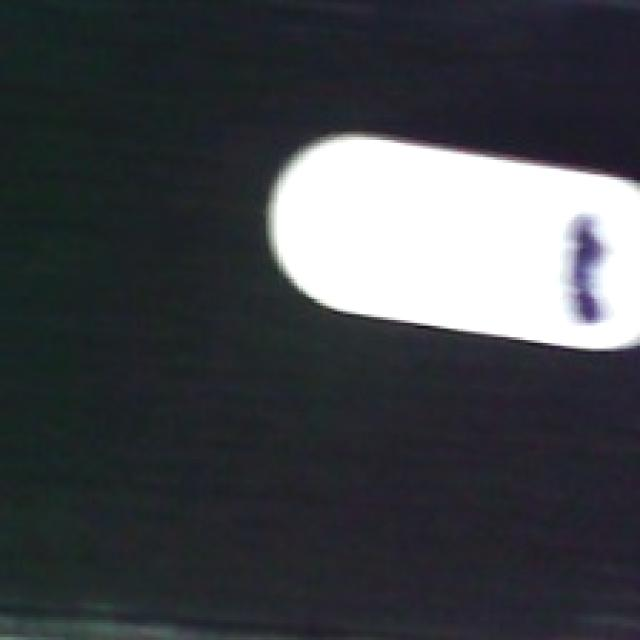defected: (266, 132, 640, 352)
